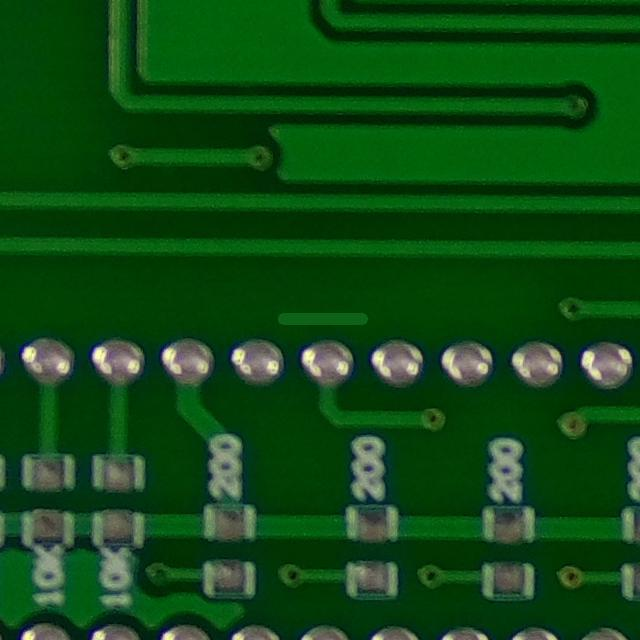spurious_copper: (259, 292, 382, 349)
